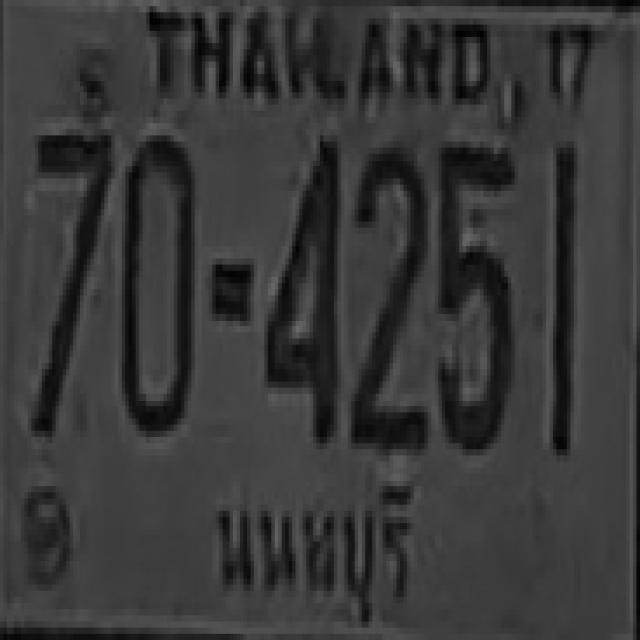0: (120, 129, 193, 431)
1: (549, 138, 574, 452)
2: (350, 139, 426, 446)
4: (261, 132, 337, 440)
5: (435, 139, 511, 446)
7: (32, 126, 112, 434)
Nonthaburi: (198, 471, 429, 640)
